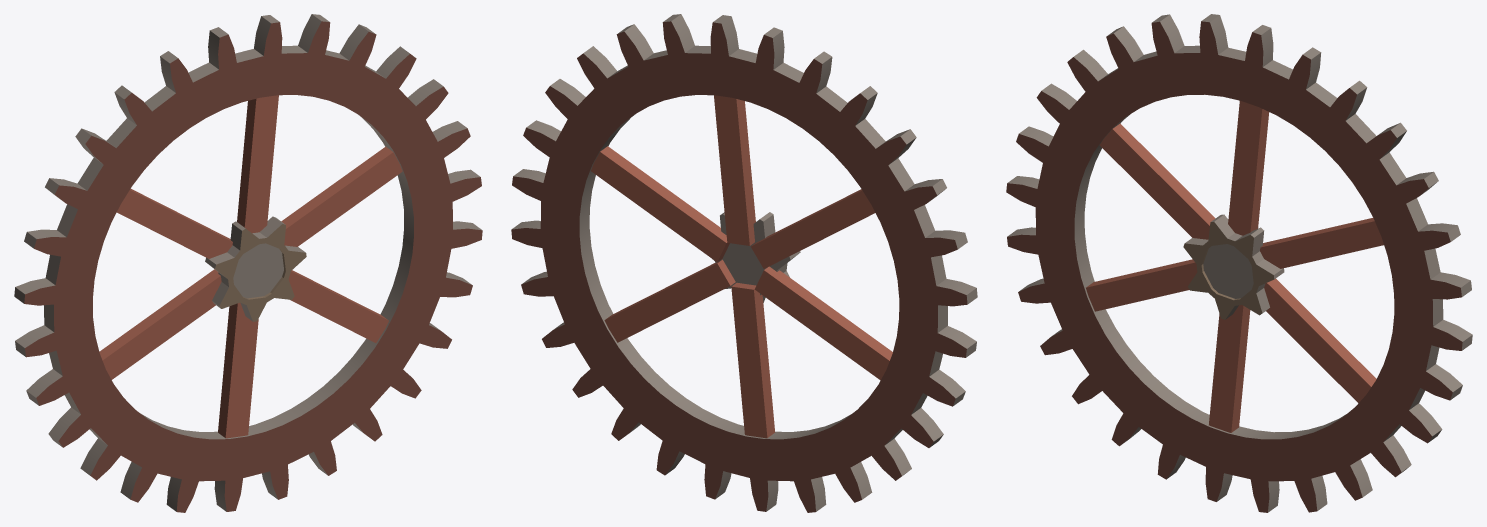
File: Engranaje3.fbx
3 renders of one model, left to right at view 1: azimuth 30°, elevation 25°; view 2: azimuth 150°, elevation 25°; view 3: azimuth 330°, elevation 25°, orthographic.
Parts seen in each view (by area): view 1: pasted__pGear2, pasted__pasted__pGear2.001, pasted__pCube9, pasted__pCube6, pasted__pCube5, pasted__pCube8, pasted__pCube10, pasted__pCube7; view 2: pasted__pGear2, pasted__pCube6, pasted__pCube9, pasted__pCube8, pasted__pCube5, pasted__pCube7, pasted__pCube10, pasted__pasted__pGear2.001; view 3: pasted__pGear2, pasted__pasted__pGear2.001, pasted__pCube7, pasted__pCube10, pasted__pCube5, pasted__pCube8, pasted__pCube6, pasted__pCube9.
Boxes of the visible parts, bbox=[...] form: pasted__pGear2: bbox=[14, 14, 482, 512]; pasted__pasted__pGear2.001: bbox=[205, 216, 306, 321]; pasted__pCube9: bbox=[99, 269, 221, 379]; pasted__pCube6: bbox=[281, 146, 402, 246]; pasted__pCube5: bbox=[237, 95, 278, 233]; pasted__pCube8: bbox=[218, 302, 258, 438]; pasted__pCube10: bbox=[116, 189, 232, 258]; pasted__pCube7: bbox=[288, 270, 388, 342]; pasted__pGear2: bbox=[511, 14, 977, 512]; pasted__pCube6: bbox=[591, 146, 729, 262]; pasted__pCube9: bbox=[754, 266, 892, 380]; pasted__pCube8: bbox=[731, 282, 775, 438]; pasted__pCube5: bbox=[714, 95, 755, 245]; pasted__pCube7: bbox=[604, 259, 735, 342]; pasted__pCube10: bbox=[751, 189, 875, 268]; pasted__pasted__pGear2.001: bbox=[712, 212, 800, 302]; pasted__pGear2: bbox=[1006, 14, 1472, 512]; pasted__pasted__pGear2.001: bbox=[1183, 214, 1284, 319]; pasted__pCube7: bbox=[1264, 278, 1376, 402]; pasted__pCube10: bbox=[1099, 123, 1215, 239]; pasted__pCube5: bbox=[1228, 100, 1269, 235]; pasted__pCube8: bbox=[1209, 305, 1250, 432]; pasted__pCube6: bbox=[1260, 218, 1383, 268]; pasted__pCube9: bbox=[1086, 259, 1197, 311].
Size of the model in its own units: 21.01 by 21.01 by 1.37.
